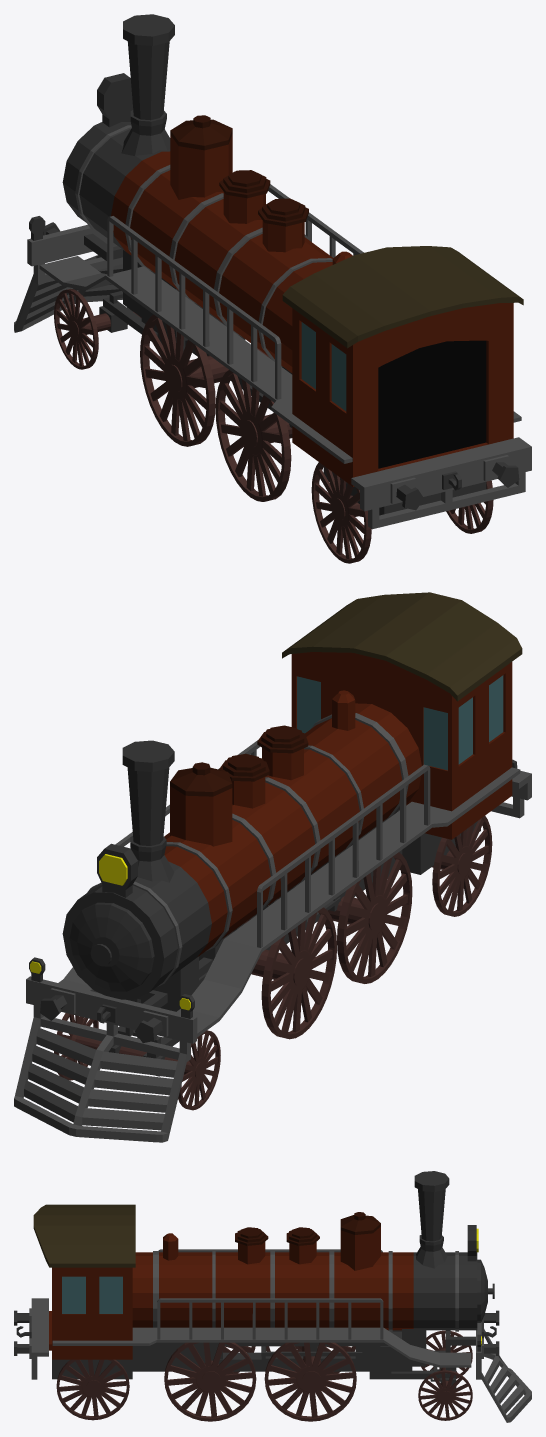
File: Train-FrontOutside.fbx
3 renders of one model, top to bottom at view 1: azimuth 30°, elevation 25°; view 2: azimuth 150°, elevation 25°; view 3: azimuth 270°, elevation 25°, orthographic. The views are drawn at different scales.
Visible parts, largest first — view 1: TrainBody, WheelsMiddleFront, WheelsMiddleBack, WheelsBack, WheelsFront; view 2: TrainBody, WheelsMiddleFront, WheelsMiddleBack, WheelsBack, WheelsFront; view 3: TrainBody, WheelsMiddleFront, WheelsMiddleBack, WheelsBack, WheelsFront.
Part boxes in pixels (box(x1,y1,x2,y2)): TrainBody: box(14, 14, 531, 529); WheelsMiddleFront: box(140, 314, 269, 446); WheelsMiddleBack: box(215, 370, 292, 501); WheelsBack: box(311, 462, 493, 563); WheelsFront: box(54, 288, 141, 369); TrainBody: box(14, 592, 531, 1142); WheelsMiddleFront: box(251, 907, 336, 1039); WheelsMiddleBack: box(244, 852, 412, 983); WheelsBack: box(431, 816, 492, 916); WheelsFront: box(54, 1013, 220, 1110); TrainBody: box(14, 1171, 531, 1422); WheelsMiddleFront: box(264, 1342, 356, 1421); WheelsMiddleBack: box(164, 1342, 256, 1421); WheelsBack: box(56, 1359, 129, 1420); WheelsFront: box(418, 1330, 472, 1420).
Size of the model in its own units: 397 by 715 by 1509.
